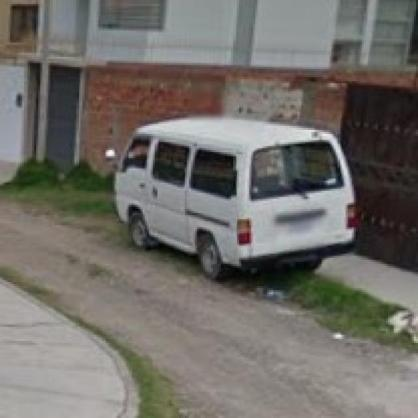car: (114, 115, 358, 280)
